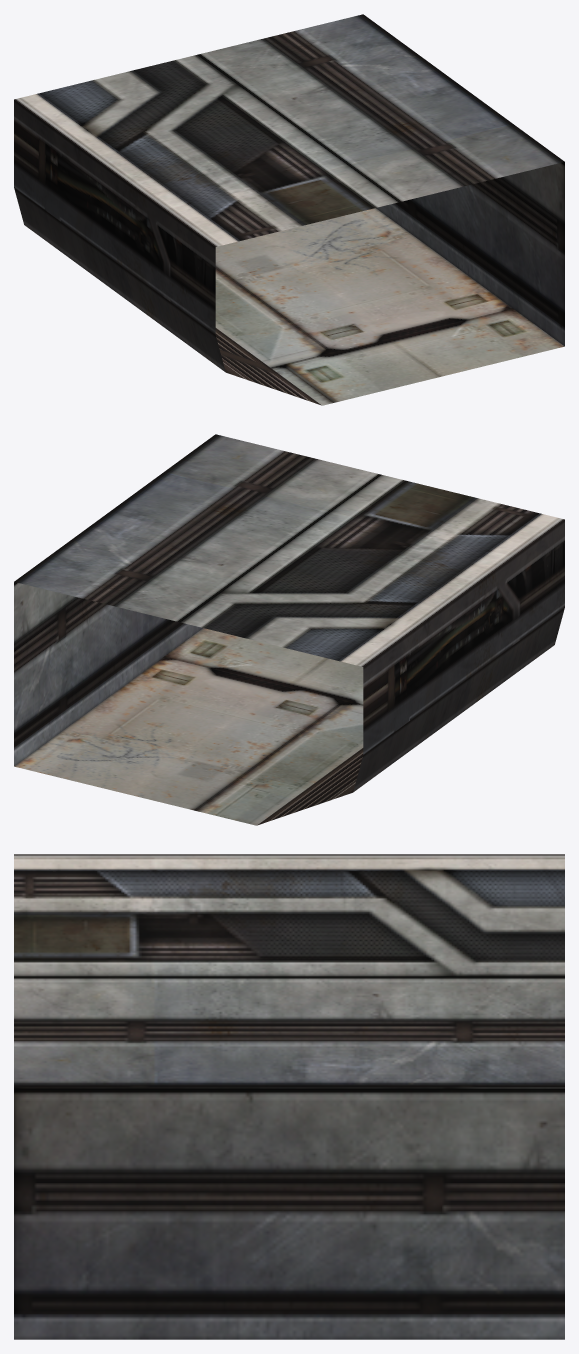
Rendered from Edge_07.fbx.
3 renders of one model, top to bottom at view 1: azimuth 30°, elevation 25°; view 2: azimuth 150°, elevation 25°; view 3: azimuth 270°, elevation 25°, orthographic. The views are drawn at different scales.
Parts seen in each view (by area): view 1: Edge_07; view 2: Edge_07; view 3: Edge_07.
Part boxes in pixels (bbox=[...]): Edge_07: bbox=[14, 14, 564, 405]; Edge_07: bbox=[14, 434, 564, 825]; Edge_07: bbox=[14, 854, 564, 1339].
Size of the model in its own units: 100 by 50.53 by 99.99.
